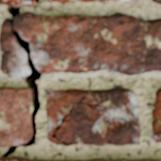brick: (47, 88, 139, 145), (0, 88, 30, 146), (151, 89, 160, 141), (0, 0, 34, 5), (0, 158, 33, 160), (48, 0, 69, 2), (153, 0, 160, 3), (80, 0, 94, 1)
broken_brick: (15, 11, 160, 76), (0, 18, 28, 77)
crack: (0, 2, 42, 158), (51, 95, 111, 146)
